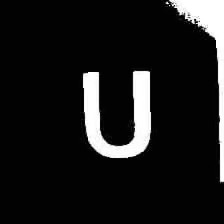LTR_U: (76, 58, 156, 164)
